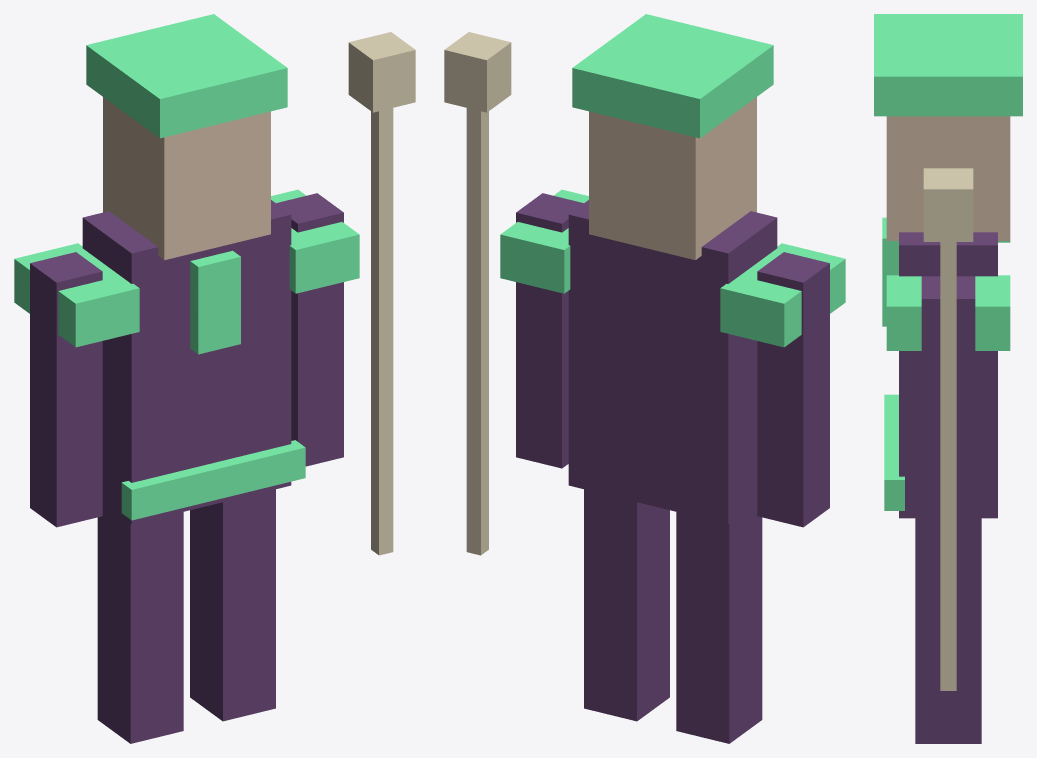
The model's file is 13_orin_holloway_navigator_at_skybridge.glb.
The picture shows the model from 3 angles, left to right: view 1: azimuth 30°, elevation 25°; view 2: azimuth 150°, elevation 25°; view 3: azimuth 270°, elevation 25°; orthographic projection.
Parts seen in each view (by area): view 1: Orin Holloway, Navigator at Skybridge; view 2: Orin Holloway, Navigator at Skybridge; view 3: Orin Holloway, Navigator at Skybridge.
Part boxes in pixels (<box>): Orin Holloway, Navigator at Skybridge: <box>14,14,415,743</box>; Orin Holloway, Navigator at Skybridge: <box>444,14,845,743</box>; Orin Holloway, Navigator at Skybridge: <box>874,14,1022,743</box>.
Bounding box in the file's own units: 0.9481 × 1.65 × 0.3363.
